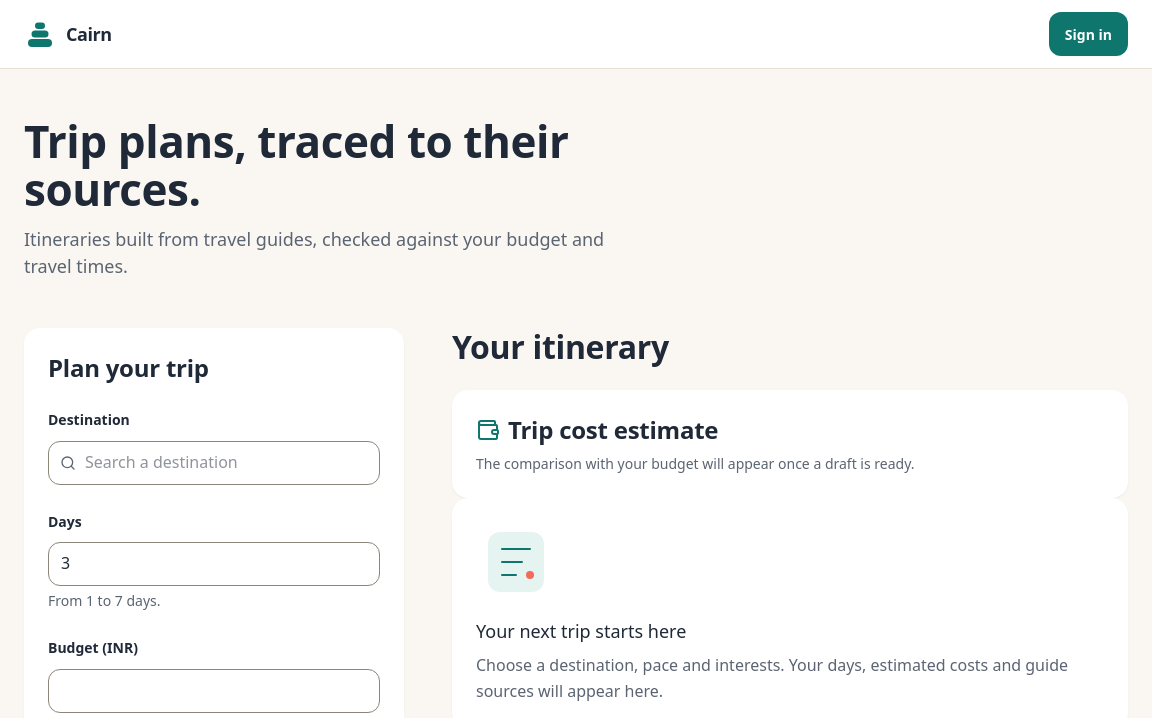
account dialog › ignores a successful sign in response after the dialog closes
Expected: the dropdown labelled "Destination" is shown, [48, 441, 380, 485]
Click the button "Sign in" at (1088, 34), box [1049, 12, 1128, 56]
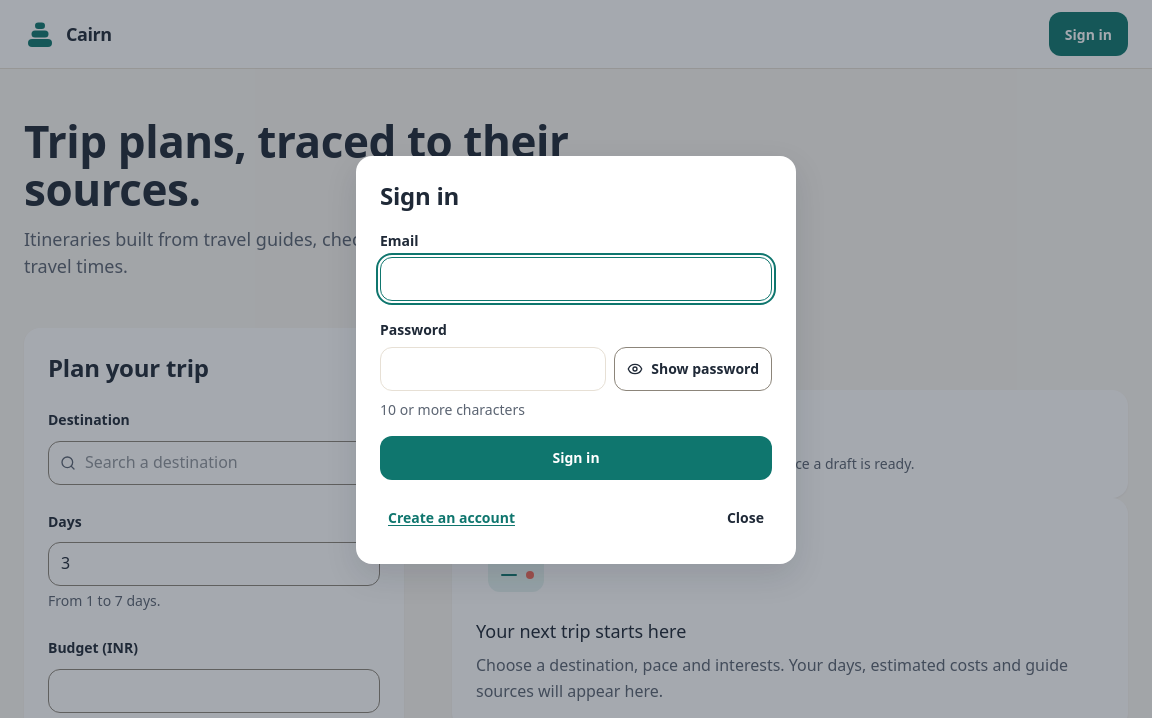
Type "person@example.com" into the field labelled "Email" at (576, 279), box [380, 257, 772, 301]
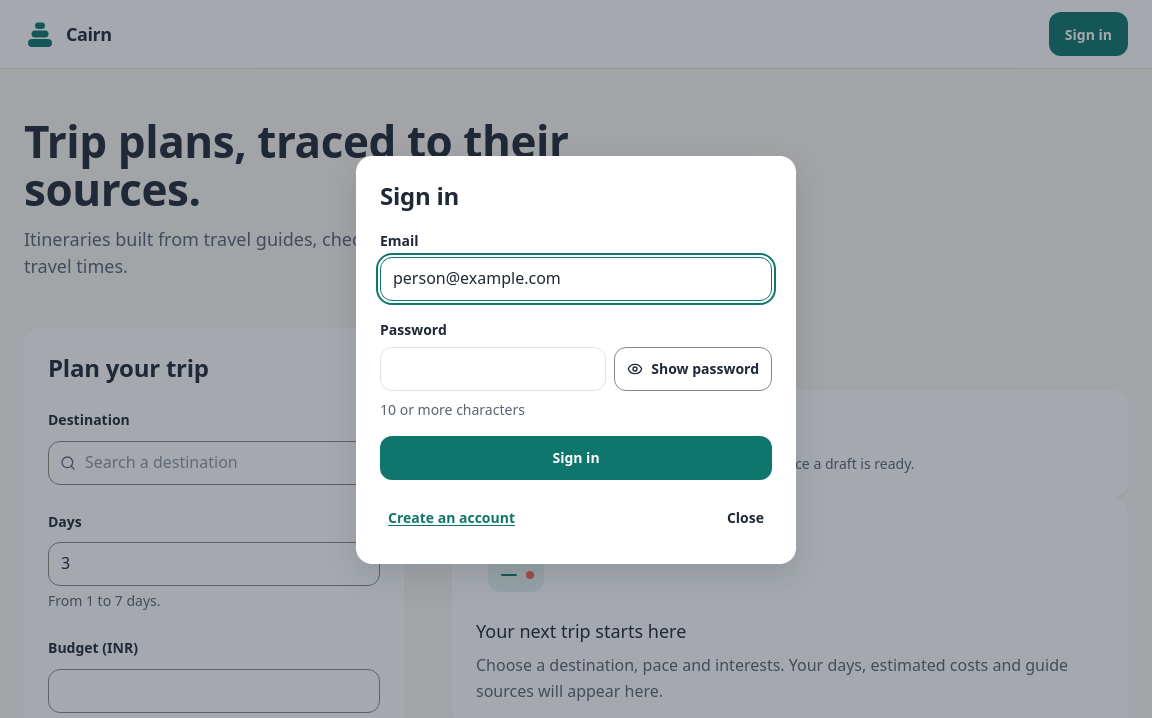
Type "correct horse" into the password field labelled "Password" at (493, 369), box [380, 347, 606, 391]
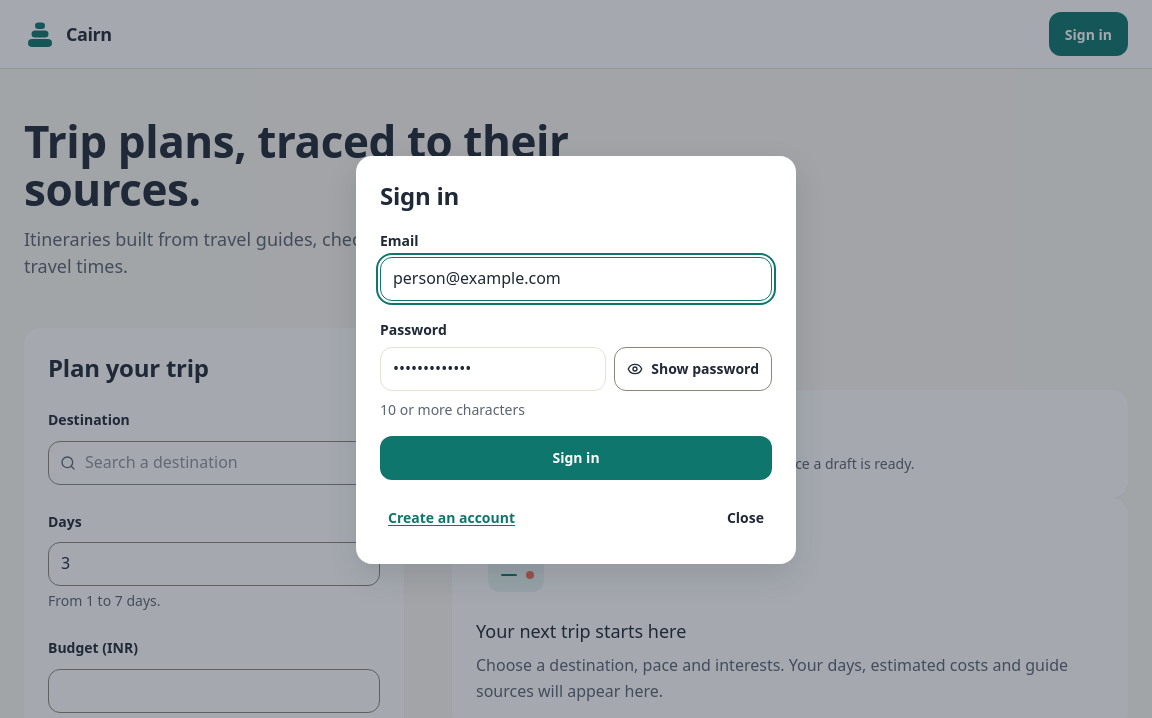
Click the button "Sign in" at (576, 458), box [380, 436, 772, 480]
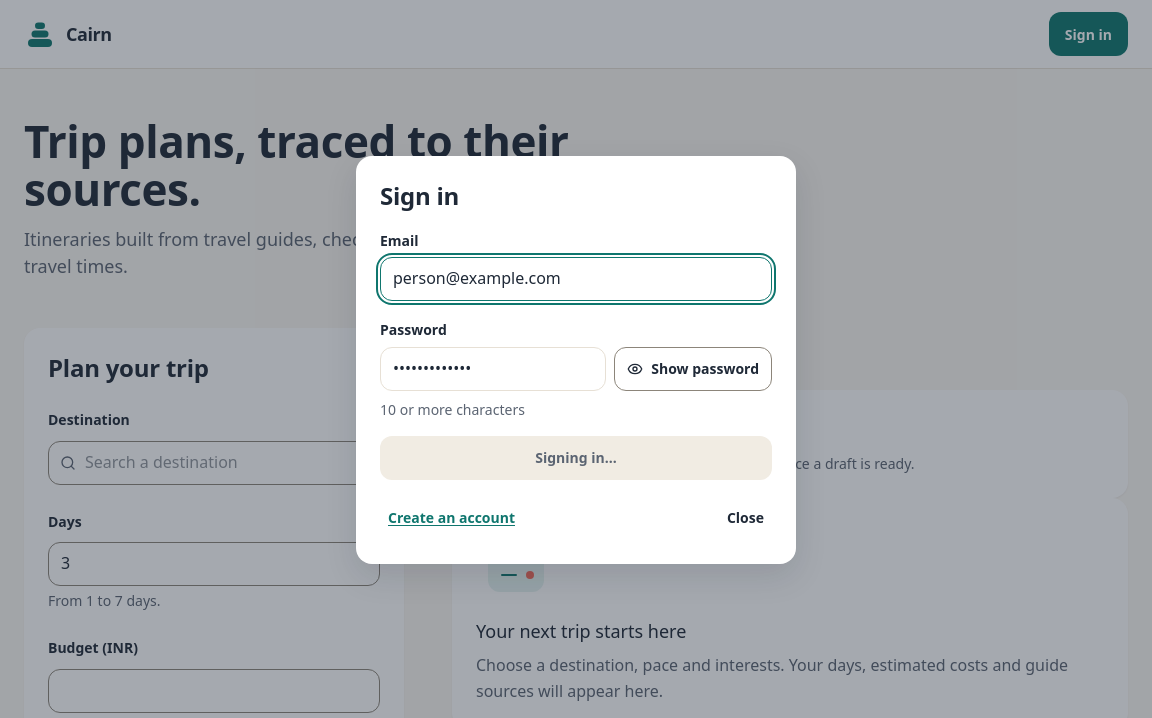
Expected: the button "Signing in..." is disabled, [380, 436, 772, 480]
Click the button "Close" at (745, 518), box [719, 496, 772, 540]
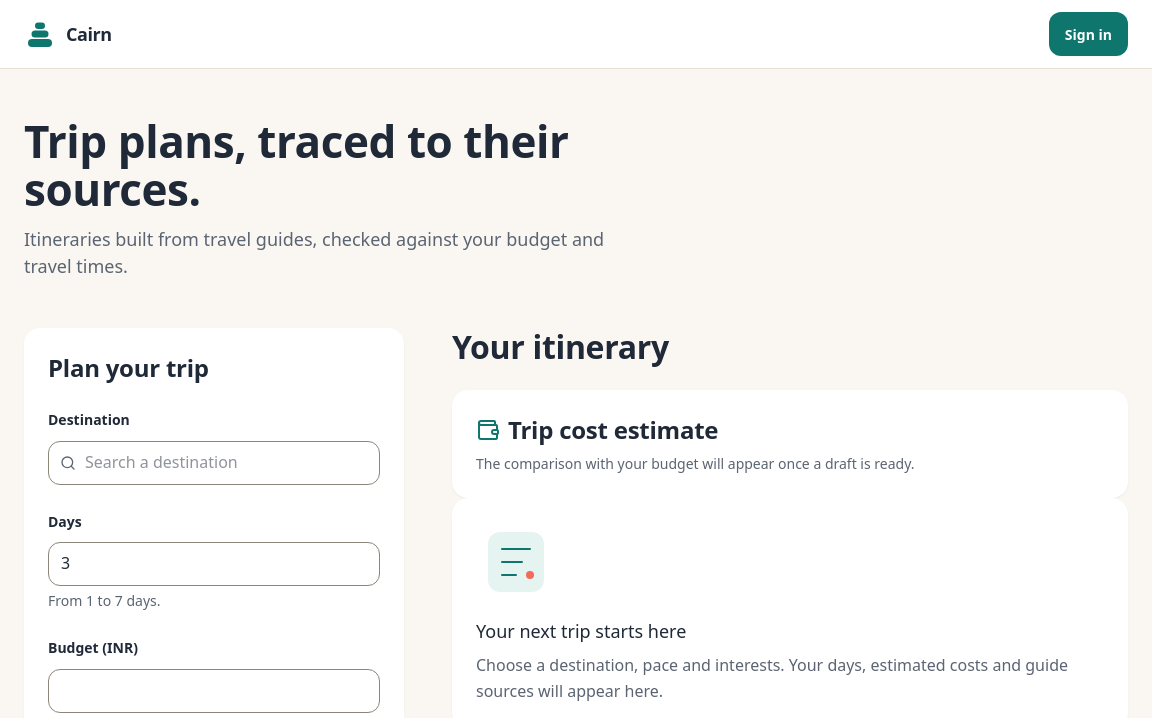
Expected: the button "Sign in" is shown, [1049, 12, 1128, 56]
Expected: the dialog is gone
